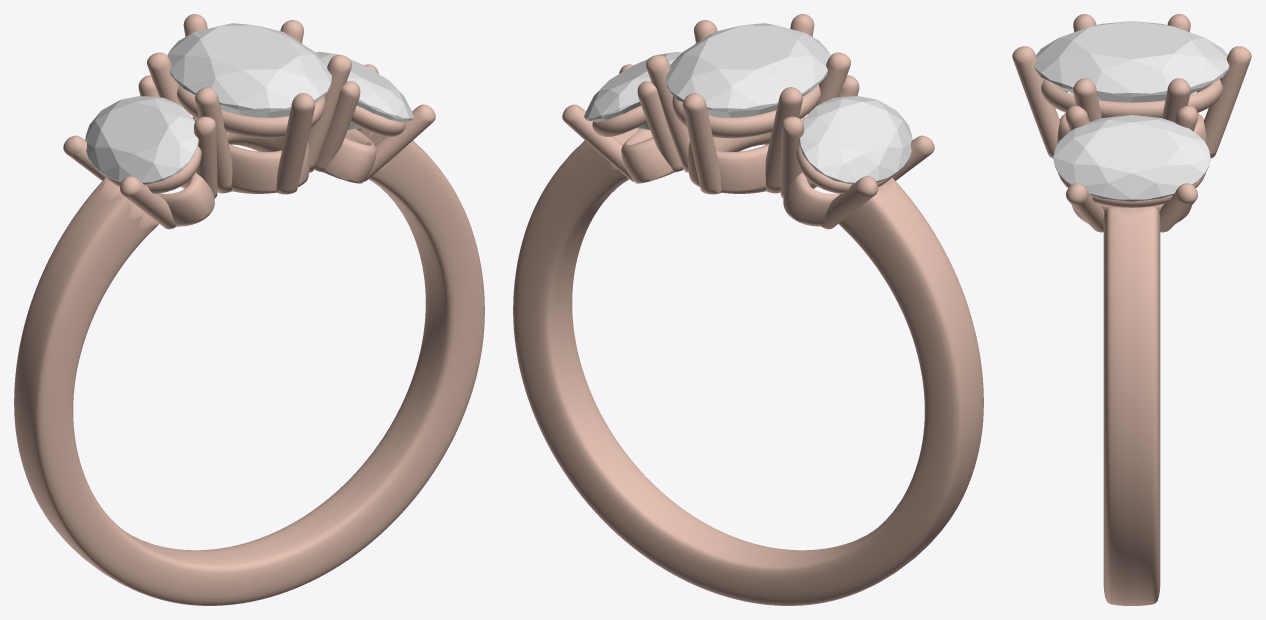
File: diamond-oval-rosegold-6prong-straightband-3stone.glb
3 views of the same model, side by side, from view 1: azimuth 30°, elevation 25°; view 2: azimuth 150°, elevation 25°; view 3: azimuth 270°, elevation 25° (orthographic).
Visible parts, largest first — view 1: metal, stone.001, side.002, side.003; view 2: metal, stone.001, side.002, side.003; view 3: metal, stone.001, side.003.
Boxes of the visible parts, <box> form: metal: <box>14,14,484,605</box>; stone.001: <box>167,23,331,117</box>; side.002: <box>85,96,198,184</box>; side.003: <box>316,51,413,130</box>; metal: <box>513,14,983,605</box>; stone.001: <box>666,23,830,117</box>; side.002: <box>799,96,912,184</box>; side.003: <box>584,51,681,130</box>; metal: <box>1012,14,1251,605</box>; stone.001: <box>1034,21,1229,102</box>; side.003: <box>1053,115,1210,201</box>.
Bounding box in the file's own units: 20.1 × 23.21 × 9.29.
